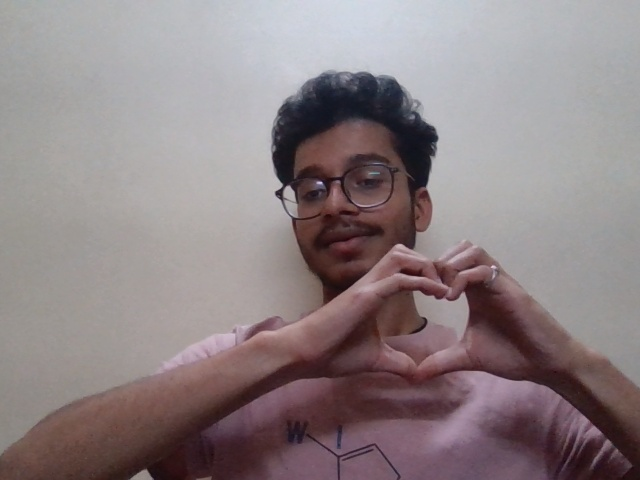silent-voice: (340, 236, 557, 411)
